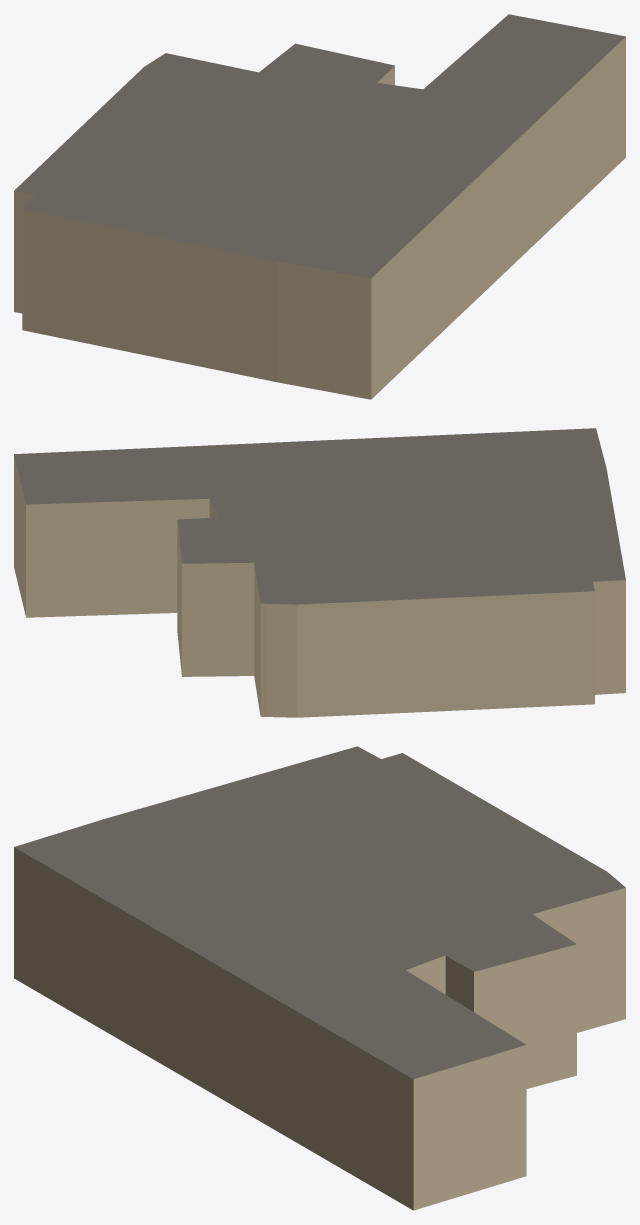
3 renders of one model, top to bottom at view 1: azimuth 30°, elevation 25°; view 2: azimuth 150°, elevation 25°; view 3: azimuth 270°, elevation 25°, orthographic. The views are drawn at different scales.
Visible parts, largest first — view 1: HP-w1510972569; view 2: HP-w1510972569; view 3: HP-w1510972569.
Boxes of the visible parts, x1,y1,x2,y2 form: HP-w1510972569: (14,14,625,399); HP-w1510972569: (14,428,625,717); HP-w1510972569: (14,746,625,1210).
Size of the model in its own units: 71.76 by 13.2 by 55.74.
